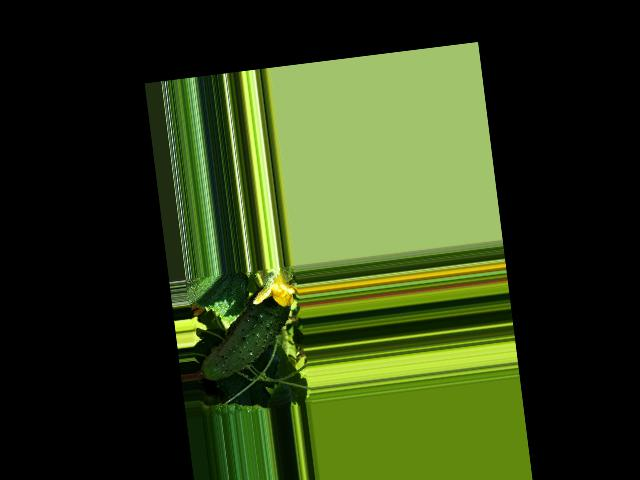cucumber: (186, 284, 298, 383)
